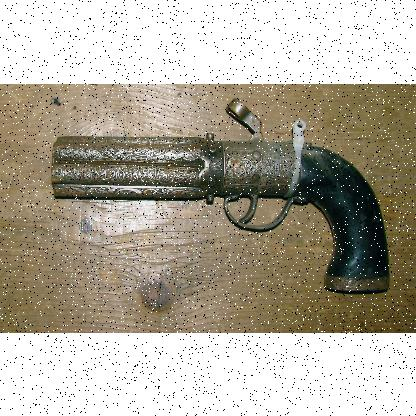gun: (51, 98, 389, 290)
